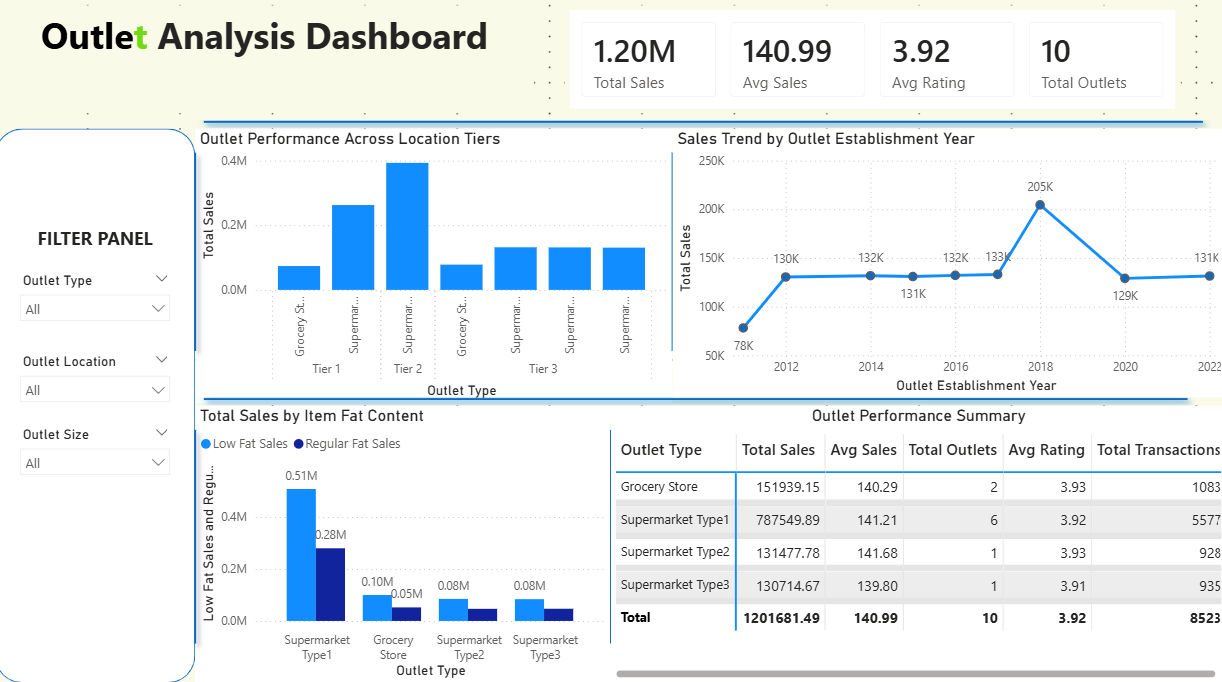

What the dashboard file says about the page in this screenshot:
{"tool":"powerbi","page":{"name":"Outlet Analysis","canvas":[1280,720],"ordinal":1},"visuals":[{"type":"shape","box":[0,144,208,576],"z":0,"group":"g2"},{"type":"lineStackedColumnComboChart","title":"Outlet Performance Across Location Tiers","fields":{"Category":["dim_outlet.Outlet Location Type","dim_outlet.Outlet Type"],"Y":["_Measures.Total Sales"]},"box":[208,144,496,285],"z":0},{"type":"slicer","fields":{"Values":["dim_outlet.outlet_type"]},"box":[16,288,176,64],"z":0,"group":"g1"},{"type":"clusteredColumnChart","title":"Total Sales by Item Fat Content","fields":{"Category":["dim_outlet.Outlet Type"],"Y":["_Measures.Low Fat Sales","_Measures.Regular Fat Sales"]},"box":[208,432,432,288],"z":0,"group":"g4"},{"type":"group","id":"g1","title":"Group 1","box":[16,288,176,145.2],"z":1000,"group":"g2"},{"type":"slicer","fields":{"Values":["dim_outlet.outlet_location_type"]},"box":[16,372.7,176,60.5],"z":1000,"group":"g1"},{"type":"slicer","fields":{"Values":["dim_outlet.outlet_location_type"]},"box":[16,464,176,64],"z":1000},{"type":"group","id":"g2","title":"Group 2","box":[0,144,1248,576],"z":2000},{"type":"textbox","box":[16,240,176,48],"z":2000,"group":"g2"},{"type":"shape","box":[672,160,64,224],"z":3000},{"type":"shape","box":[208,416,1040,16],"z":3000,"group":"g2"},{"type":"group","id":"g3","title":"Group 3","box":[0,16,1232,112],"z":4000},{"type":"shape","box":[208,128,1056,16],"z":4000,"group":"g4"},{"type":"cardVisual","fields":{"Data":["_Measures.Total Sales","_Measures.Avg Sales","_Measures.Avg Rating","_Measures.Total Outlets"]},"box":[592,16,640,112],"z":5000,"group":"g3"},{"type":"group","id":"g4","title":"Group 4","box":[176,128,1104,592],"z":5000},{"type":"textbox","box":[0,16,560,112],"z":6000,"group":"g3"},{"type":"slicer","fields":{"Values":["dim_outlet.Outlet Size"]},"box":[16,448,176,64],"z":6000},{"type":"pivotTable","title":"Outlet Performance Summary","fields":{"Rows":["dim_outlet.Outlet Type"],"Values":["_Measures.Total Sales","_Measures.Avg Sales","_Measures.Total Outlets","_Measures.Avg Rating","_Measures.Total Transactions"]},"box":[640,432,640,288],"z":7000},{"type":"lineChart","title":"Sales Trend by Outlet Establishment Year","fields":{"Category":["dim_outlet.outlet_establishment_year"],"Y":["_Measures.Total Sales"]},"box":[704,144,576,279],"z":9000,"group":"g4"},{"type":"shape","box":[608,448,64,240],"z":10000,"group":"g4"},{"type":"shape","box":[176,448,64,240],"z":12000,"group":"g4"},{"type":"shape","box":[176,160,64,224],"z":13000,"group":"g4"}]}

Visuals, with their boxes in screenshot pixels (x1, y1, x2, y2), scaled from the page's 1280x720 canvas onto the 1222x682 screenshot:
shape: [left=0, top=136, right=199, bottom=681]
"Outlet Performance Across Location Tiers" lineStackedColumnComboChart: [left=199, top=136, right=672, bottom=406]
slicer - dim_outlet.outlet_type: [left=15, top=273, right=183, bottom=333]
"Total Sales by Item Fat Content" clusteredColumnChart: [left=199, top=409, right=611, bottom=681]
"Group 1" group: [left=15, top=273, right=183, bottom=410]
slicer - dim_outlet.outlet_location_type: [left=15, top=353, right=183, bottom=410]
slicer - dim_outlet.outlet_location_type: [left=15, top=440, right=183, bottom=500]
"Group 2" group: [left=0, top=136, right=1191, bottom=681]
textbox: [left=15, top=227, right=183, bottom=273]
shape: [left=642, top=152, right=703, bottom=364]
shape: [left=199, top=394, right=1191, bottom=409]
"Group 3" group: [left=0, top=15, right=1176, bottom=121]
shape: [left=199, top=121, right=1207, bottom=136]
cardVisual - _Measures.Total Sales x _Measures.Avg Sales: [left=565, top=15, right=1176, bottom=121]
"Group 4" group: [left=168, top=121, right=1221, bottom=681]
textbox: [left=0, top=15, right=535, bottom=121]
slicer - dim_outlet.Outlet Size: [left=15, top=424, right=183, bottom=485]
"Outlet Performance Summary" pivotTable: [left=611, top=409, right=1221, bottom=681]
"Sales Trend by Outlet Establishment Year" lineChart: [left=672, top=136, right=1221, bottom=401]
shape: [left=580, top=424, right=642, bottom=652]
shape: [left=168, top=424, right=229, bottom=652]
shape: [left=168, top=152, right=229, bottom=364]
